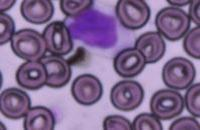M: (65, 2, 135, 58)
